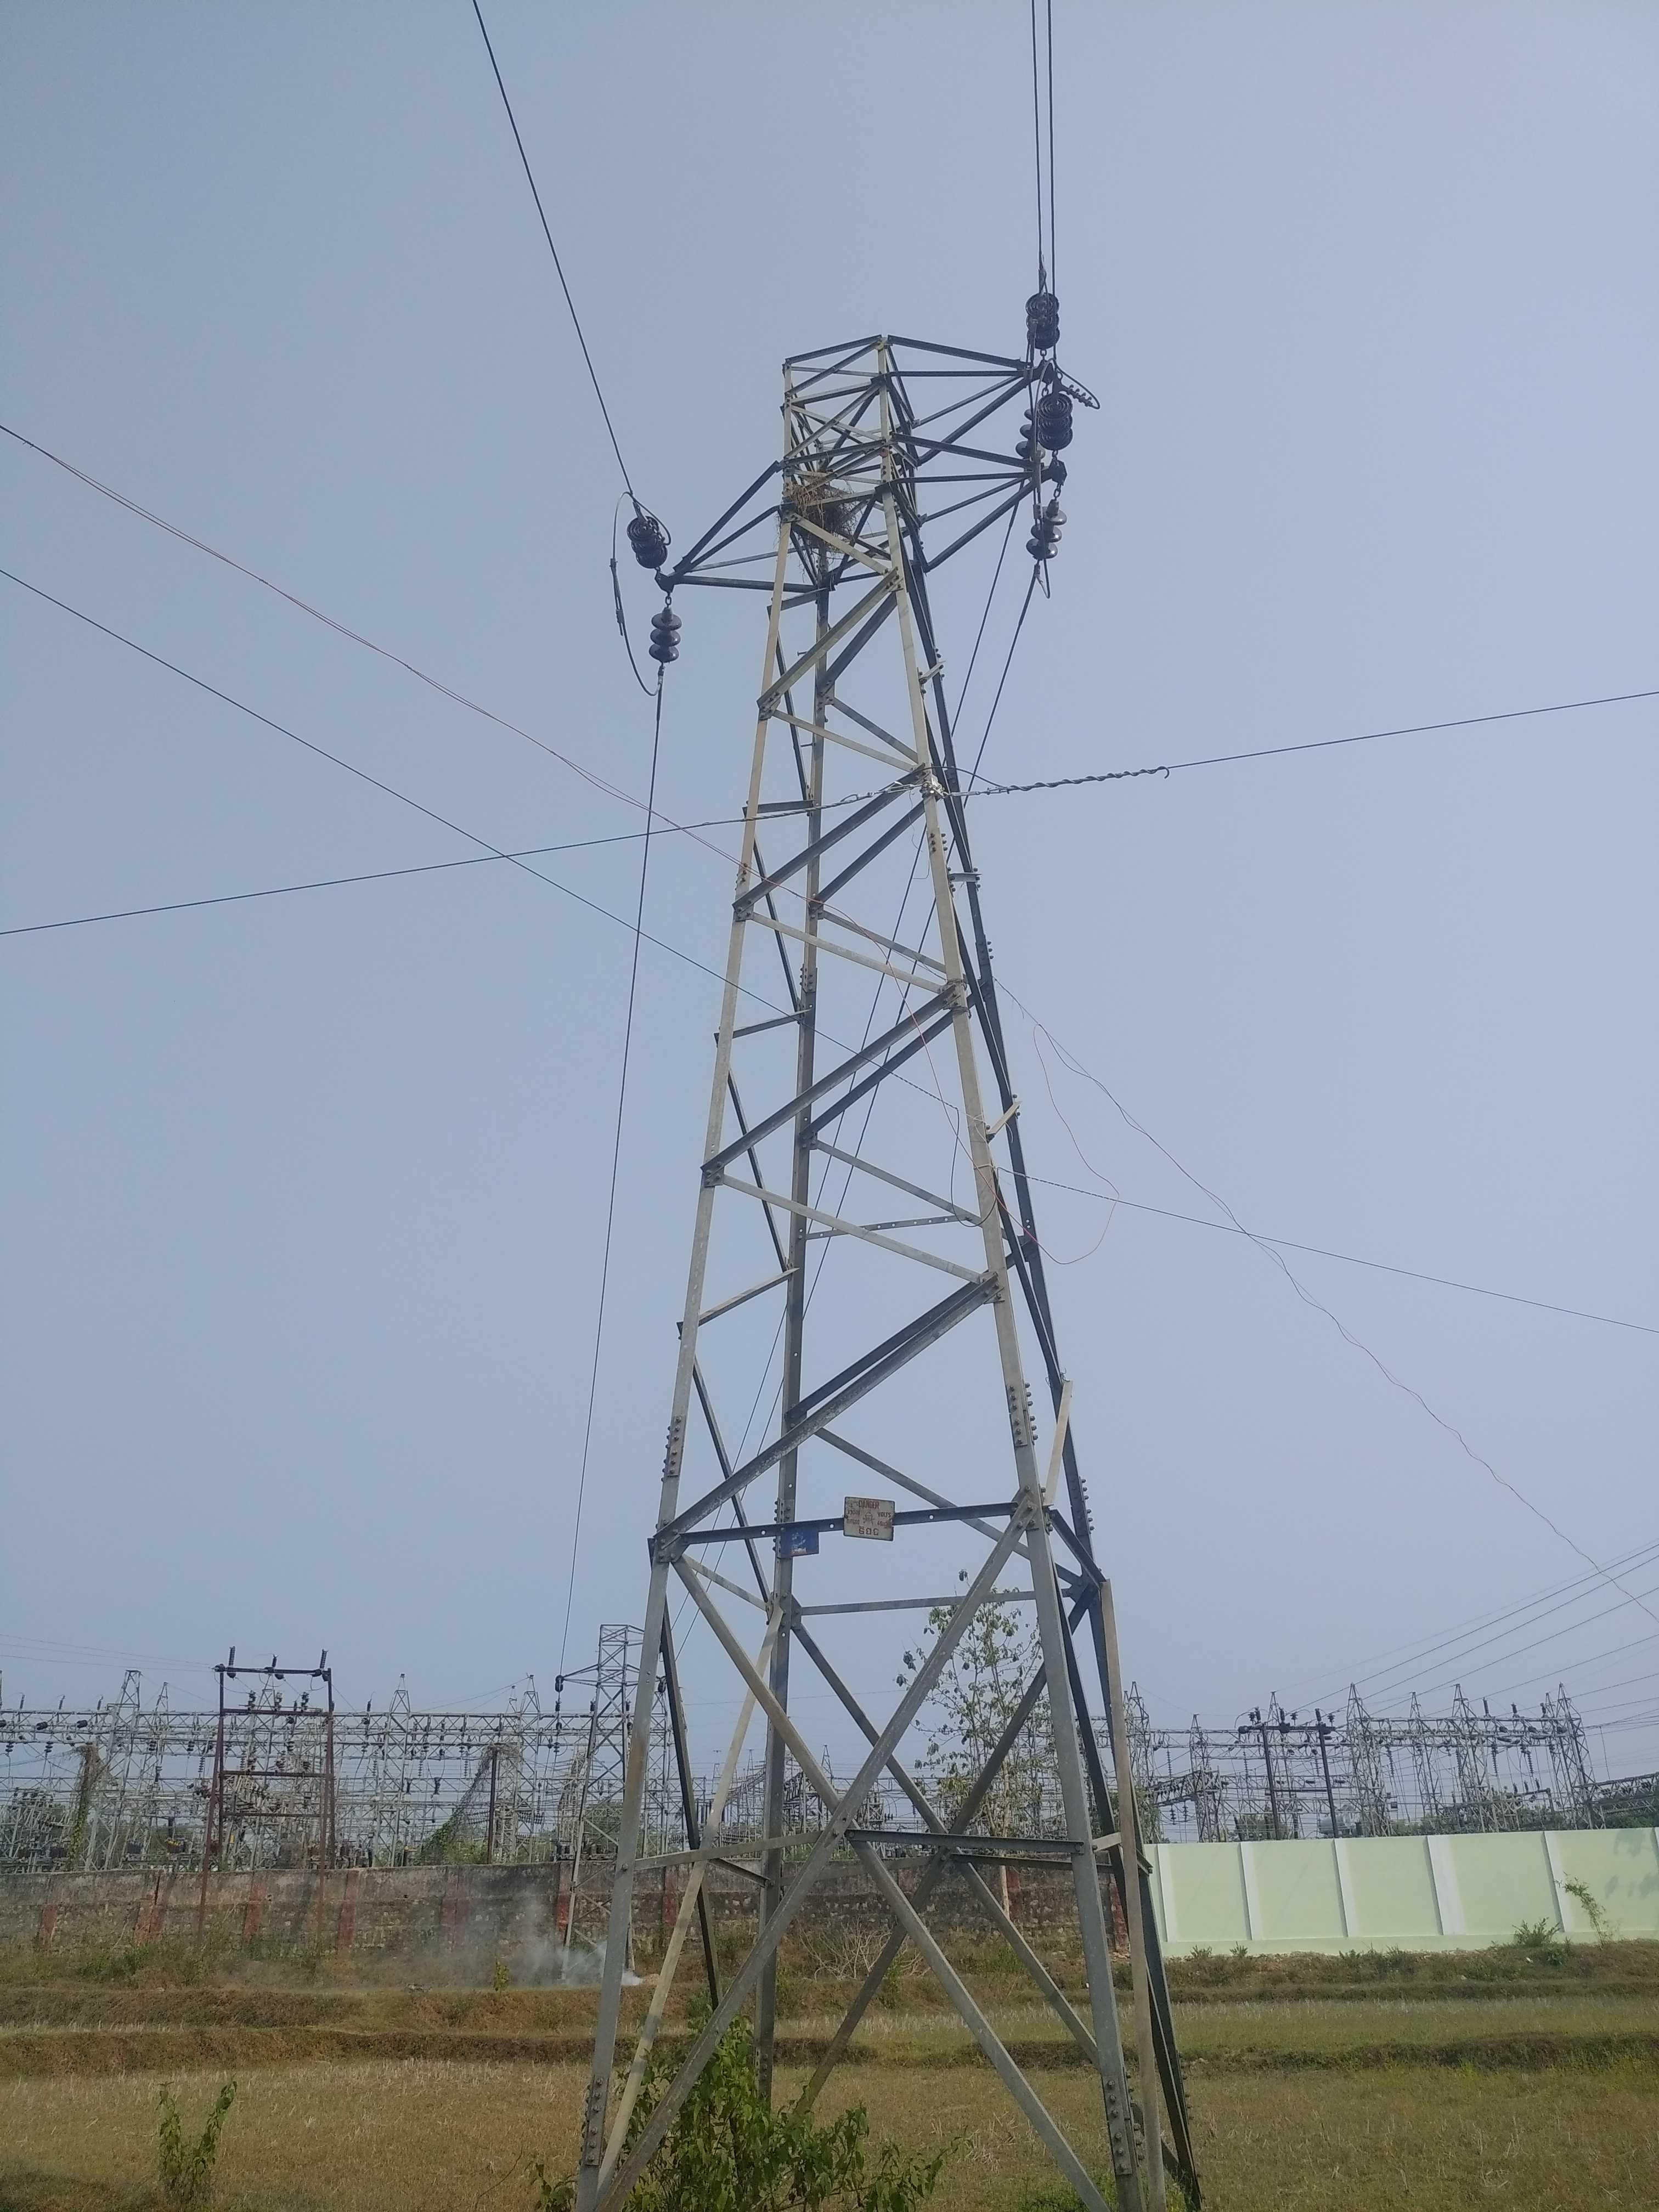GSM Antenna: (558, 322, 1201, 2132)
